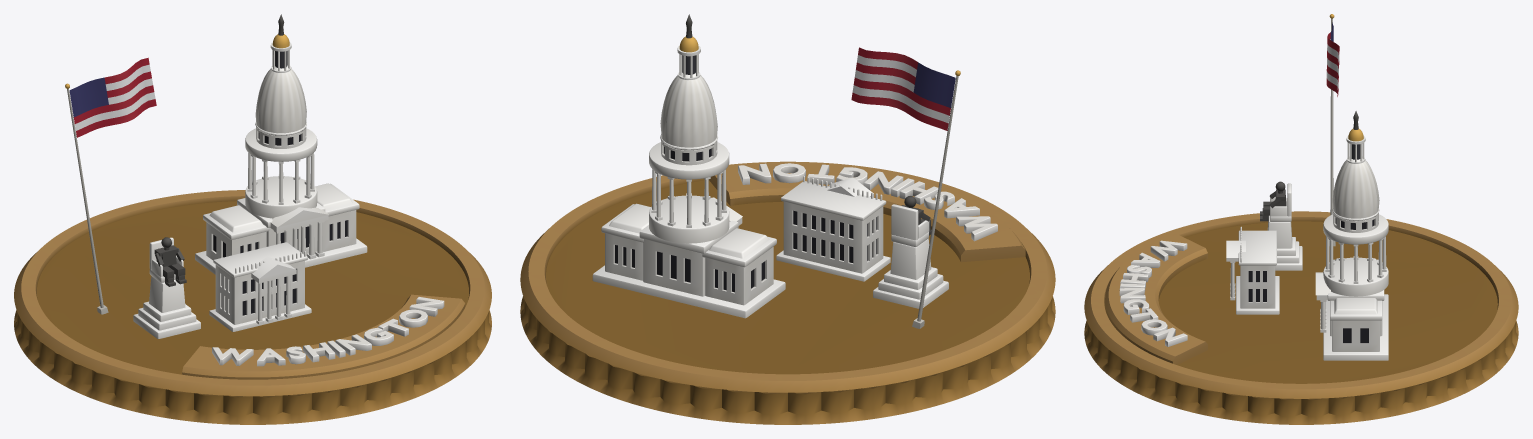
Rendered from city_bundle_washington.glb.
3 renders of one model, left to right at view 1: azimuth 30°, elevation 25°; view 2: azimuth 150°, elevation 25°; view 3: azimuth 270°, elevation 25°, orthographic. The views are drawn at different scales.
Parts seen in each view (by area): view 1: Plinth_Body, Capitol_Marble, Plinth_Nameplate, WhiteHouse_Marble, Flag_Banner, Plinth_Text_WASHINGTON, Capitol_Colonnade, Lincoln_Pedestal, Capitol_Dome, WhiteHouse_Portico, Lincoln_Figure, Flag_Pole (+1 smaller); view 2: Plinth_Body, Capitol_Marble, WhiteHouse_Marble, Plinth_Nameplate, Flag_Banner, Plinth_Text_WASHINGTON, Lincoln_Pedestal, Capitol_Dome, Capitol_Colonnade, Flag_Pole, Capitol_Cupola, WhiteHouse_Portico; view 3: Plinth_Body, Capitol_Marble, Plinth_Nameplate, WhiteHouse_Marble, Plinth_Text_WASHINGTON, Capitol_Dome, Capitol_Colonnade, Lincoln_Pedestal, Flag_Banner, Capitol_Cupola, WhiteHouse_Portico, Flag_Pole (+1 smaller).
Boxes of the visible parts, <box> form: Plinth_Body: <box>14,190,491,424</box>; Capitol_Marble: <box>195,122,367,274</box>; Plinth_Nameplate: <box>182,294,465,379</box>; WhiteHouse_Marble: <box>209,242,311,331</box>; Flag_Banner: <box>69,57,156,137</box>; Plinth_Text_WASHINGTON: <box>212,297,444,366</box>; Capitol_Colonnade: <box>247,153,328,260</box>; Lincoln_Pedestal: <box>133,237,200,338</box>; Capitol_Dome: <box>255,65,306,133</box>; WhiteHouse_Portico: <box>251,256,296,324</box>; Lincoln_Figure: <box>154,237,186,286</box>; Flag_Pole: <box>65,83,108,314</box>; Plinth_Body: <box>520,161,1055,424</box>; Capitol_Marble: <box>592,134,785,318</box>; WhiteHouse_Marble: <box>776,176,890,281</box>; Plinth_Nameplate: <box>708,164,1025,262</box>; Flag_Banner: <box>851,47,955,130</box>; Plinth_Text_WASHINGTON: <box>738,163,997,241</box>; Lincoln_Pedestal: <box>873,204,948,308</box>; Capitol_Dome: <box>660,71,717,147</box>; Capitol_Colonnade: <box>651,169,742,227</box>; Flag_Pole: <box>912,70,960,328</box>; Capitol_Cupola: <box>677,14,700,79</box>; WhiteHouse_Portico: <box>827,177,873,197</box>; Plinth_Body: <box>1084,211,1518,424</box>; Capitol_Marble: <box>1323,208,1388,360</box>; Plinth_Nameplate: <box>1105,233,1207,364</box>; WhiteHouse_Marble: <box>1236,226,1279,314</box>; Plinth_Text_WASHINGTON: <box>1119,240,1187,346</box>; Capitol_Dome: <box>1332,157,1379,218</box>; Capitol_Colonnade: <box>1315,236,1386,332</box>; Lincoln_Pedestal: <box>1267,183,1302,270</box>; Flag_Banner: <box>1326,22,1339,96</box>; Capitol_Cupola: <box>1346,111,1365,163</box>; WhiteHouse_Portico: <box>1226,240,1245,300</box>; Flag_Pole: <box>1329,14,1335,246</box>.
Bounding box in the file's own units: 1.99 × 1.27 × 1.99.
